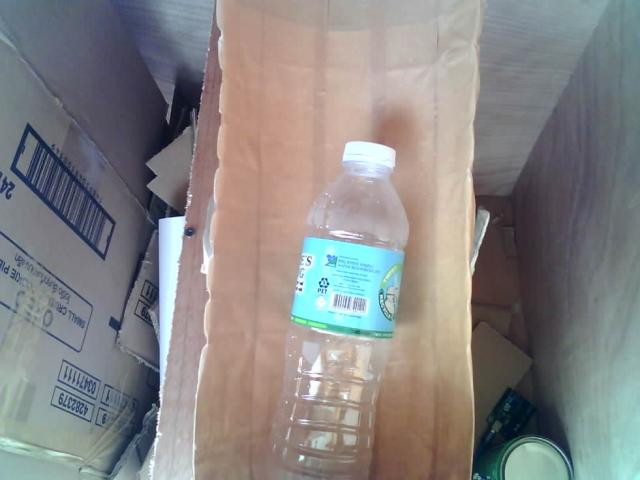small_bottle: (255, 133, 418, 480)
